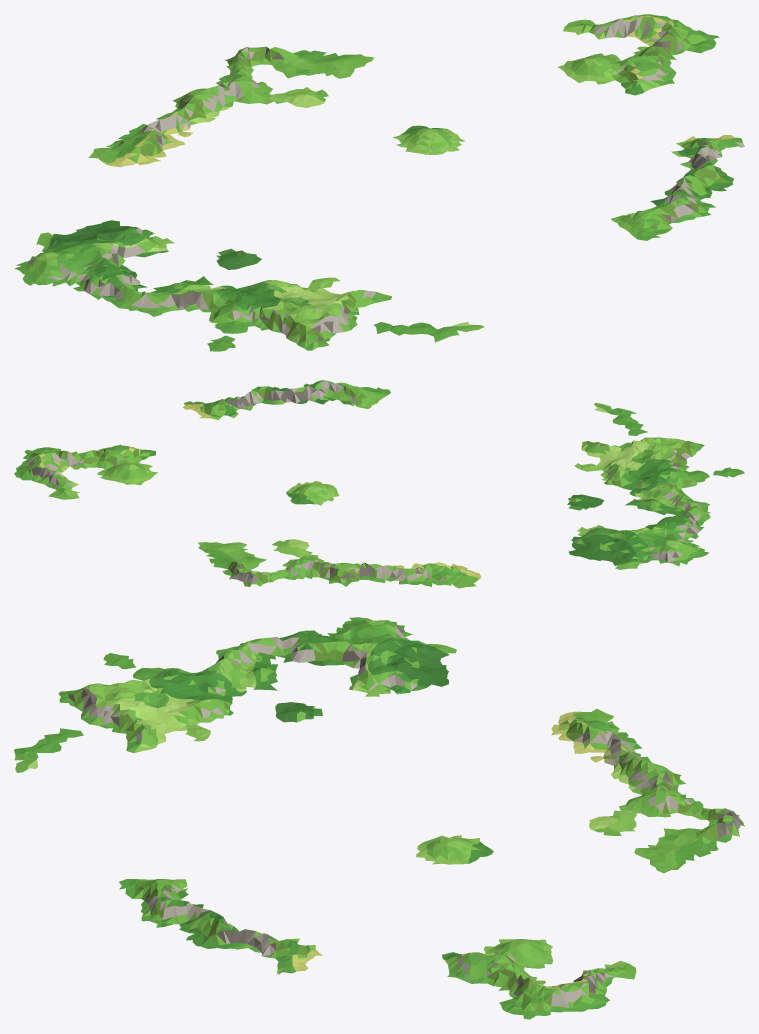
The model's file is Isl-bot6-Relief.fbx.
3 views of the same model, one above another, from view 1: azimuth 30°, elevation 25°; view 2: azimuth 150°, elevation 25°; view 3: azimuth 270°, elevation 25° (orthographic). The views are drawn at different scales.
Parts seen in each view (by area): view 1: Isl-bot6-Relief-c11, Isl-bot6-Relief-c22, Isl-bot6-Relief-c12, Isl-bot6-Relief-c21, Isl-bot6-Relief-c01, Isl-bot6-Relief-c32, Isl-bot6-Relief-c02; view 2: Isl-bot6-Relief-c11, Isl-bot6-Relief-c12, Isl-bot6-Relief-c22, Isl-bot6-Relief-c21, Isl-bot6-Relief-c01, Isl-bot6-Relief-c02, Isl-bot6-Relief-c32; view 3: Isl-bot6-Relief-c11, Isl-bot6-Relief-c12, Isl-bot6-Relief-c22, Isl-bot6-Relief-c21, Isl-bot6-Relief-c32, Isl-bot6-Relief-c01.
Part boxes in pixels (left/top/right/bottom): Isl-bot6-Relief-c11: left=75, top=238, right=484, bottom=351; Isl-bot6-Relief-c22: left=245, top=14, right=685, bottom=154; Isl-bot6-Relief-c12: left=38, top=47, right=310, bottom=253; Isl-bot6-Relief-c21: left=611, top=135, right=744, bottom=240; Isl-bot6-Relief-c01: left=22, top=253, right=136, bottom=310; Isl-bot6-Relief-c32: left=656, top=15, right=719, bottom=53; Isl-bot6-Relief-c02: left=14, top=239, right=73, bottom=274; Isl-bot6-Relief-c11: left=567, top=402, right=744, bottom=540; Isl-bot6-Relief-c12: left=246, top=527, right=654, bottom=588; Isl-bot6-Relief-c22: left=24, top=444, right=339, bottom=586; Isl-bot6-Relief-c21: left=182, top=380, right=390, bottom=419; Isl-bot6-Relief-c01: left=655, top=511, right=710, bottom=557; Isl-bot6-Relief-c02: left=629, top=540, right=693, bottom=568; Isl-bot6-Relief-c32: left=14, top=447, right=61, bottom=480; Isl-bot6-Relief-c11: left=14, top=632, right=374, bottom=772; Isl-bot6-Relief-c12: left=371, top=635, right=743, bottom=824; Isl-bot6-Relief-c22: left=416, top=811, right=744, bottom=999; Isl-bot6-Relief-c21: left=119, top=879, right=322, bottom=974; Isl-bot6-Relief-c32: left=499, top=985, right=609, bottom=1019; Isl-bot6-Relief-c01: left=239, top=617, right=375, bottom=645.
Size of the model in its own units: 127 by 2.66 by 97.99.
